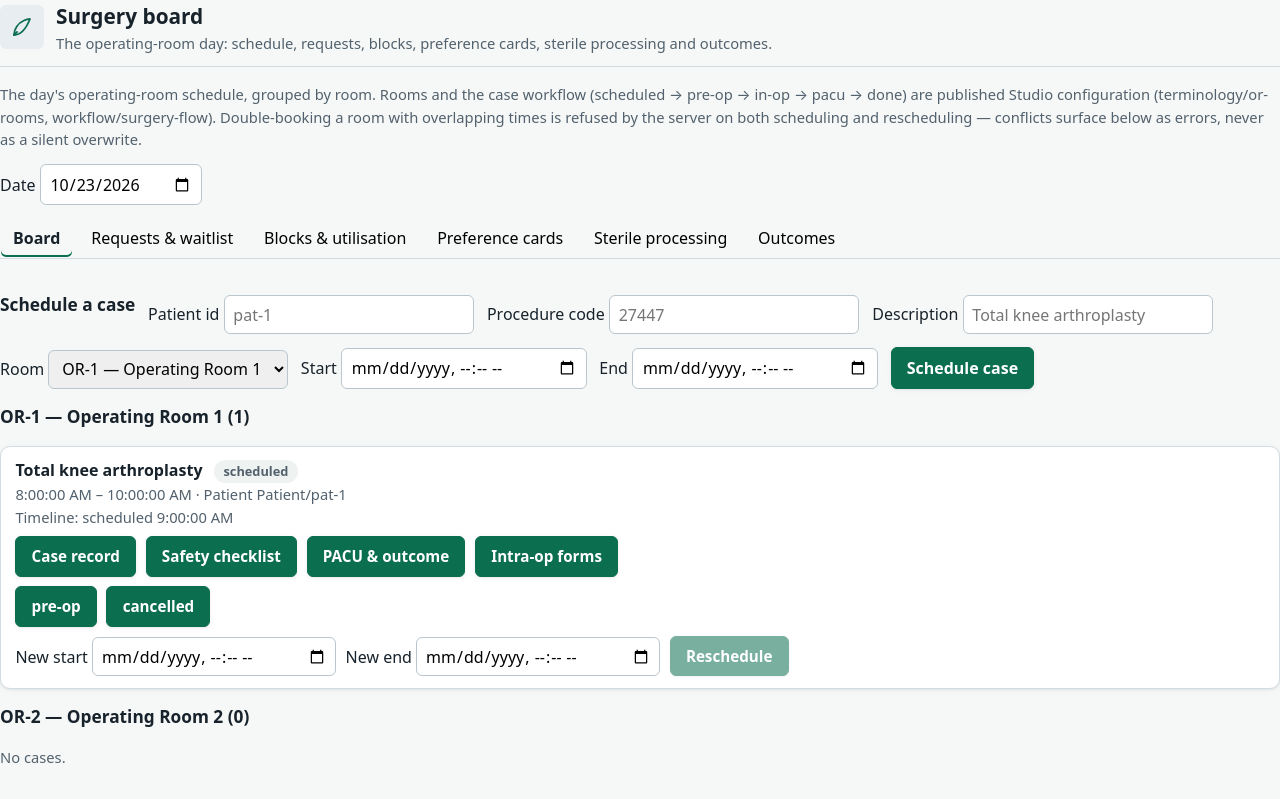
Test: SurgeryBoardPage — Phase 15 depth › PACU score submits the five criteria and shows the server total + pass
The width and height of the screenshot is (1280, 799).
Expected: the text "Total knee arthroplasty" is shown, [15,459,202,481]
Click the button "PACU & outcome" at (386, 557), box [307,536,465,577]
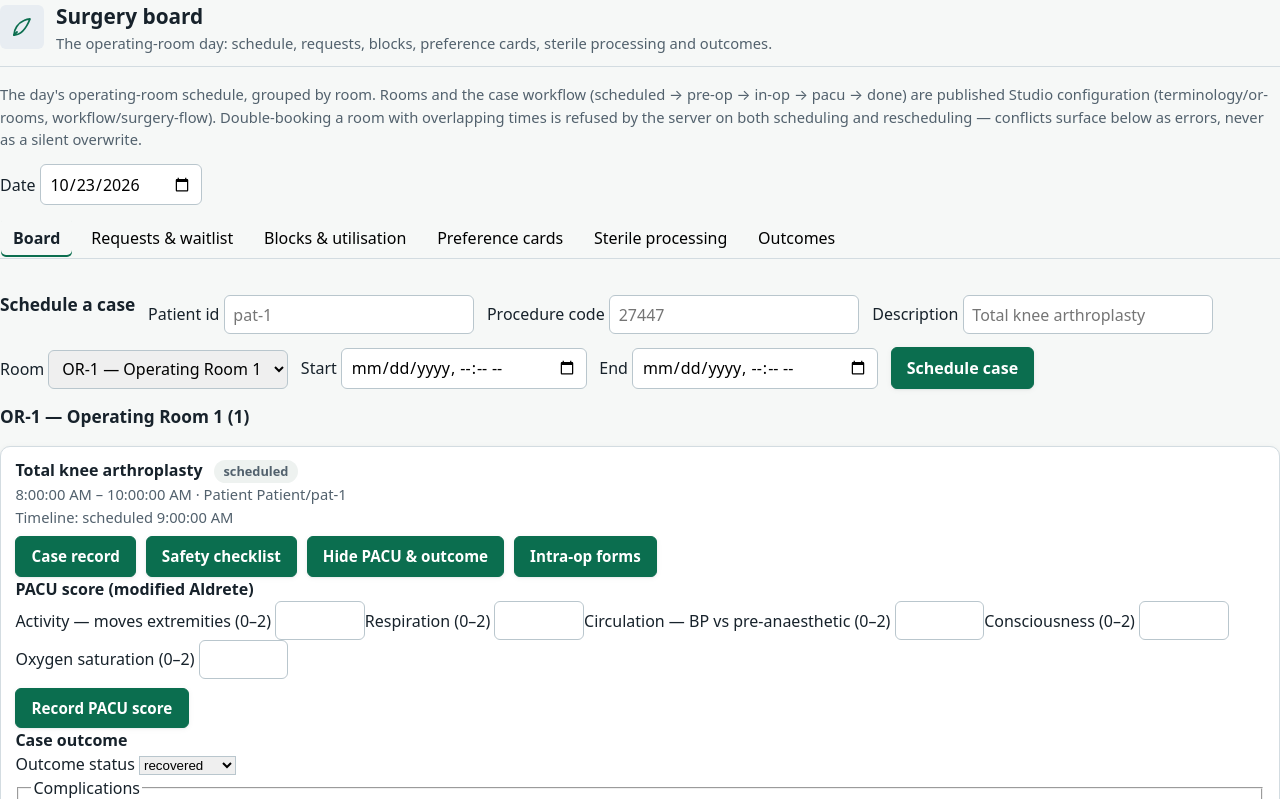
Type "2" into the number field named "PACU Activity — moves extremities" at (320, 621), box [275,601,365,640]
Type "2" into the number field named "PACU Respiration" at (539, 621), box [494,601,584,640]
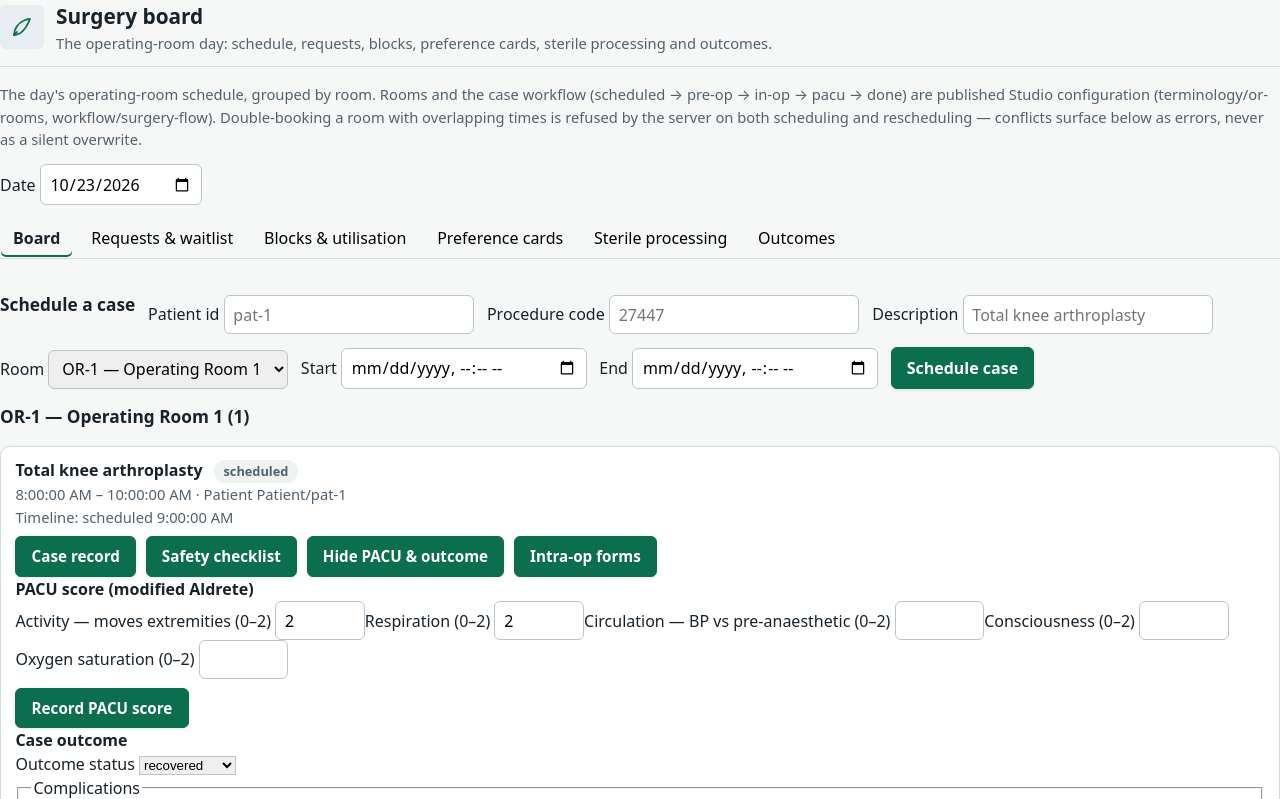
Type "2" into the number field named "PACU Circulation — BP vs pre-anaesthetic" at (939, 621), box [895,601,984,640]
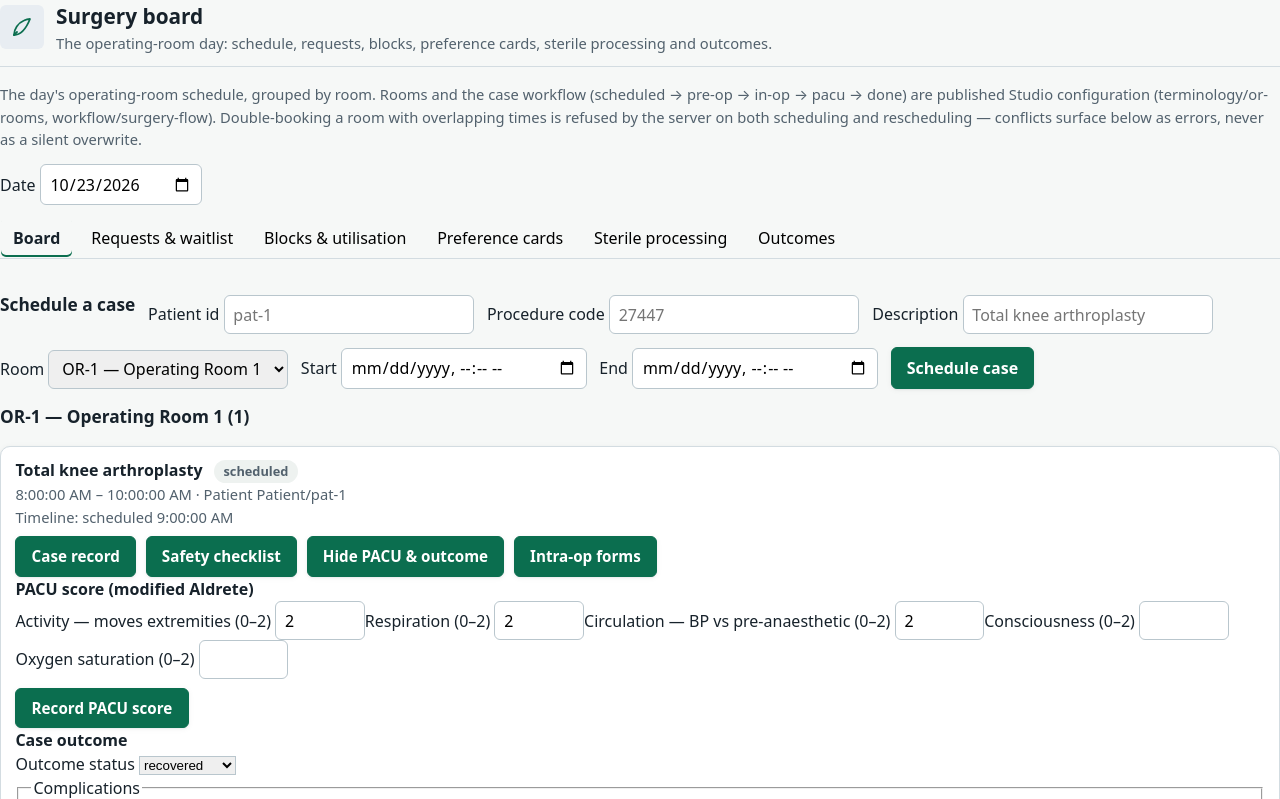
Type "2" into the number field named "PACU Consciousness" at (1184, 621), box [1139,601,1229,640]
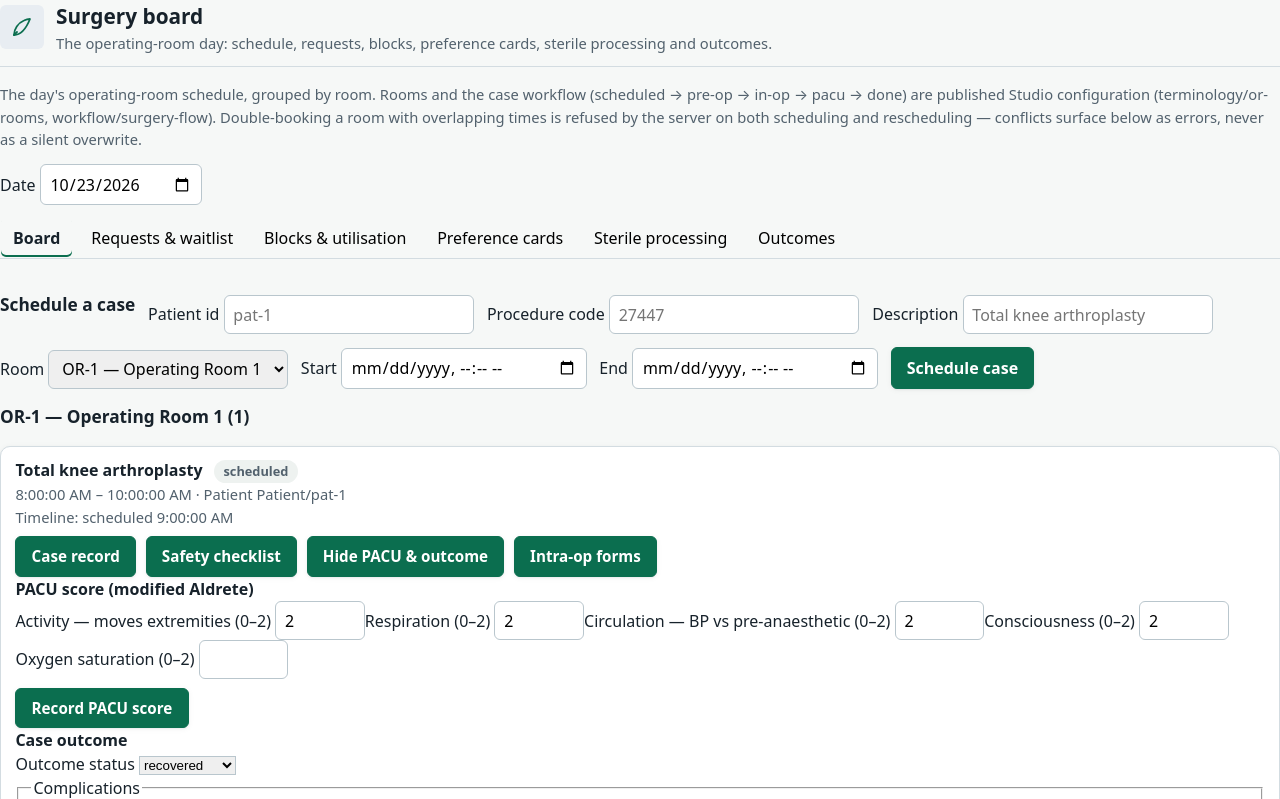
Type "2" into the number field named "PACU Oxygen saturation" at (244, 659), box [199,640,288,679]
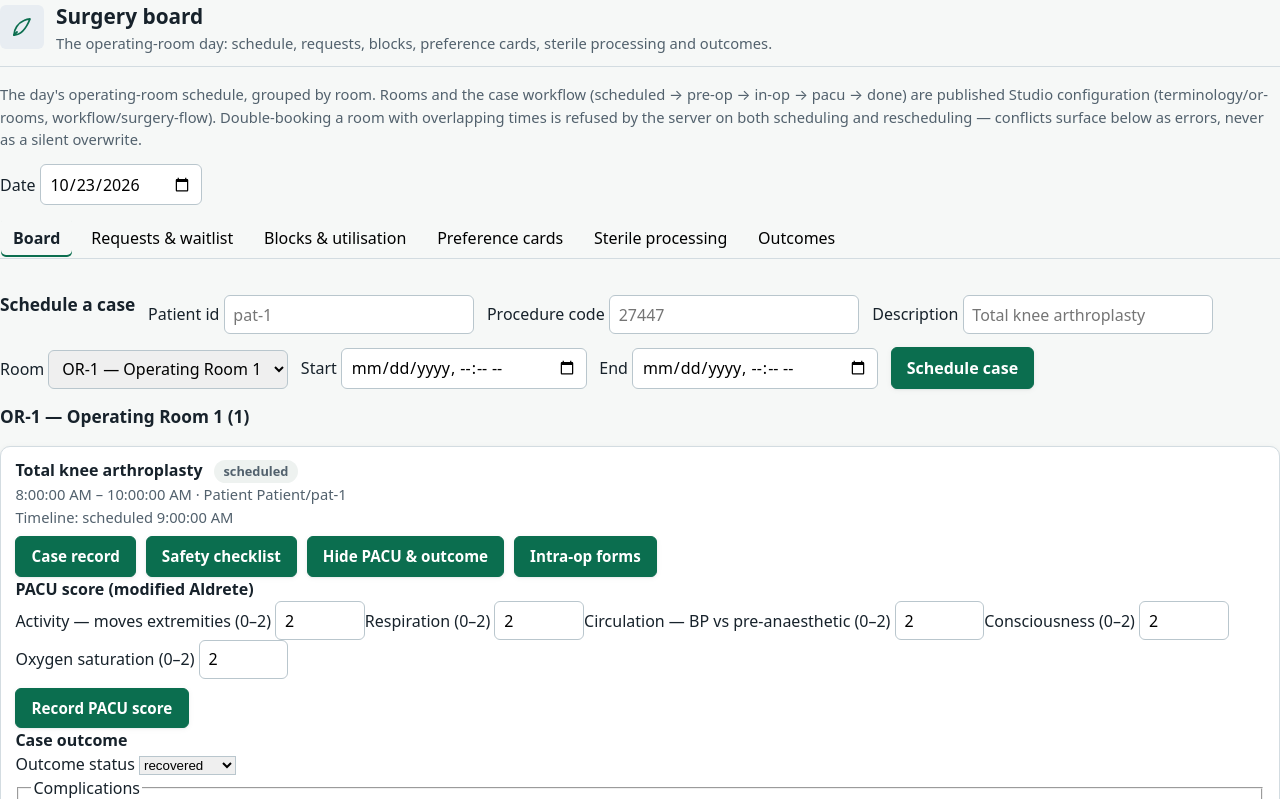
Click the button "Record PACU score" at (102, 708), box [15,688,188,728]
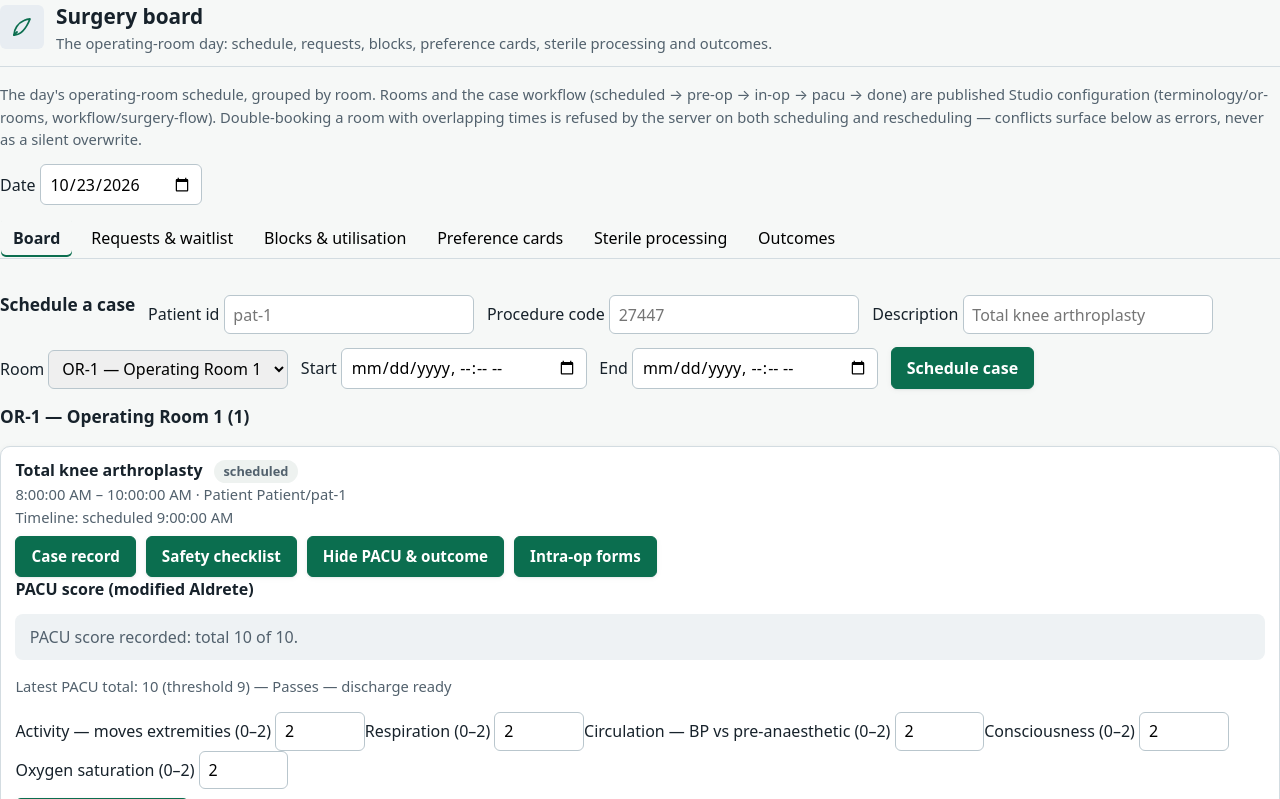
Result: the text "Latest PACU total: 10 (threshold 9)" is shown at [15,676,452,696]
Result: the text "Passes — discharge ready" is shown at [272,676,452,696]
